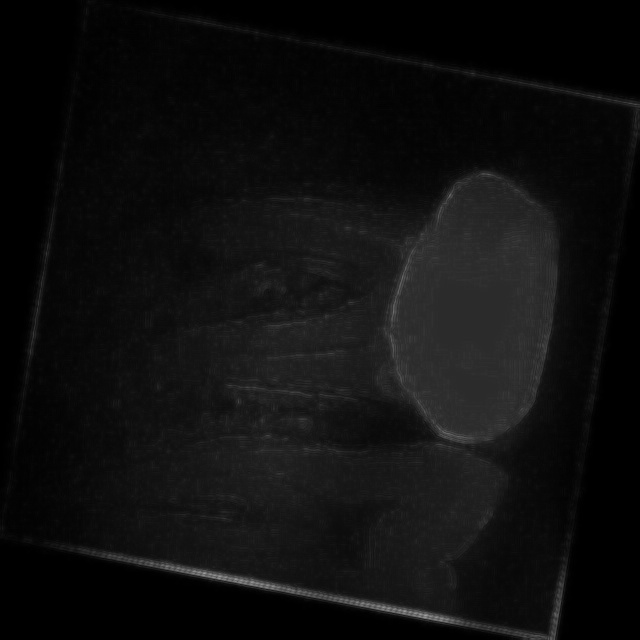Class 2- incomplete endodontic treatment: (130, 95, 589, 516)
